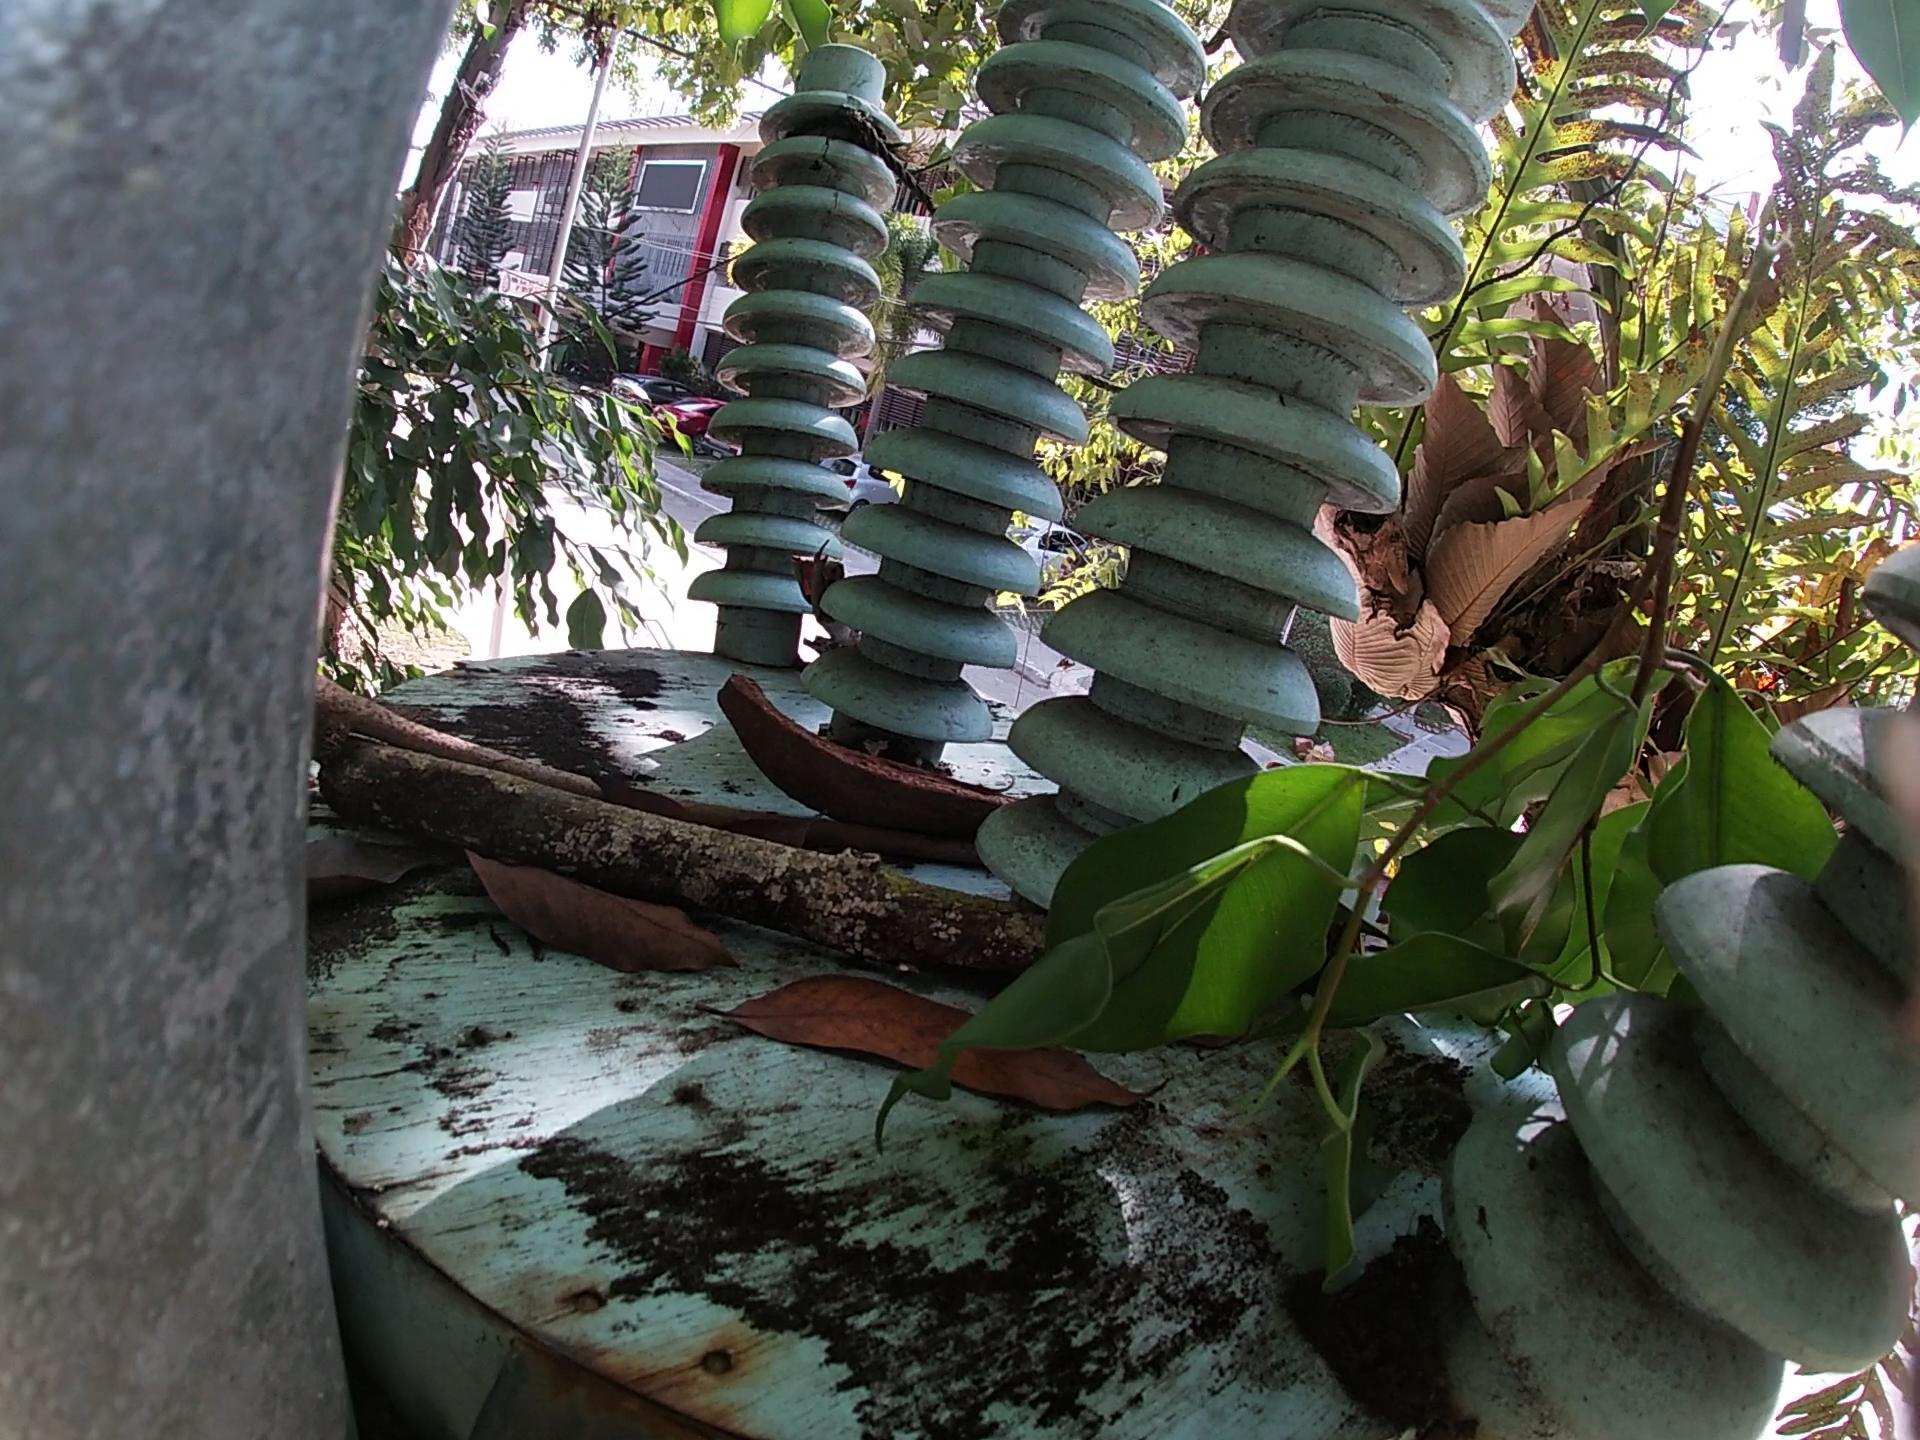branch with leaves: (962, 221, 1855, 1389)
leaf: (717, 985, 1161, 1166), (461, 864, 751, 985), (212, 849, 429, 914)
mahogany fruit: (709, 659, 996, 855)
tree branch: (334, 755, 1113, 1024), (301, 678, 788, 829)
